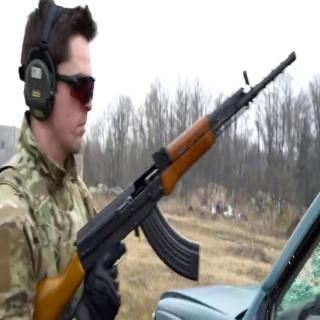gun: (21, 50, 320, 307)
